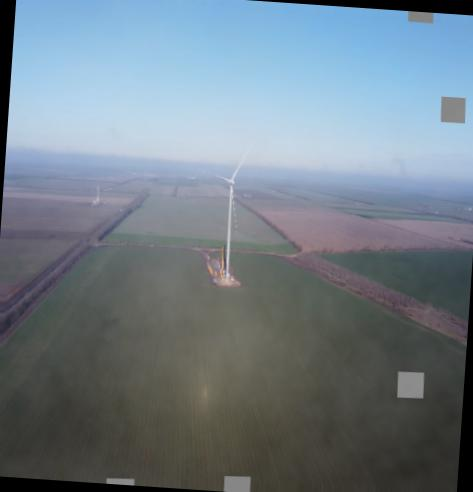wind turbine: (204, 152, 250, 284)
